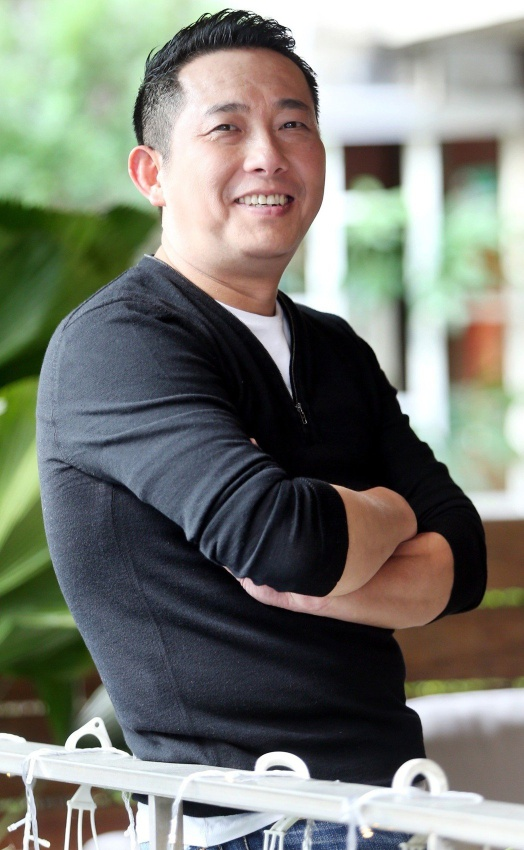male: (111, 9, 336, 296)
